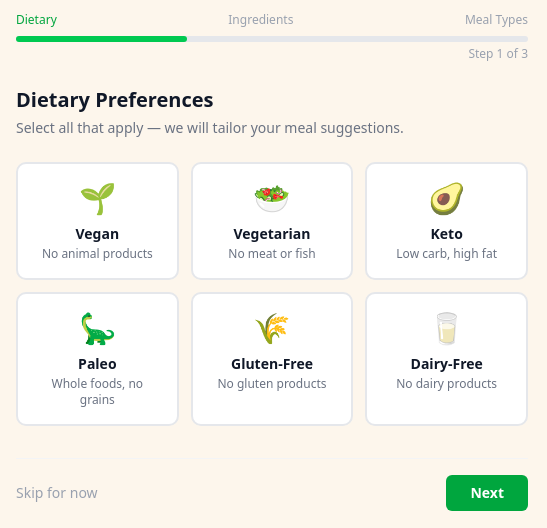
Test: OnboardingWizard › advances to step 2 on Next click
Click the button "Next" at (487, 493), box [446,475,528,511]
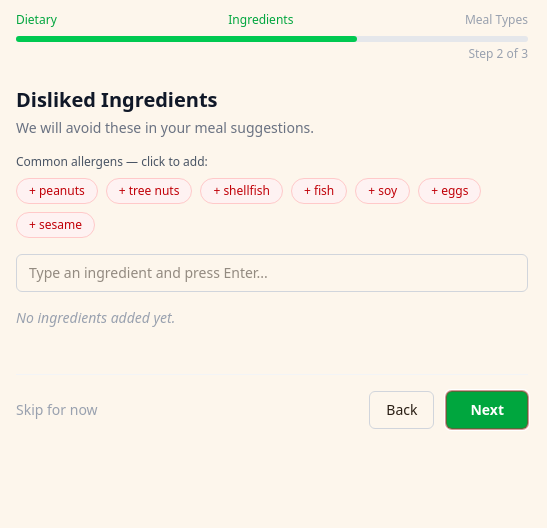
Expected: the heading "Disliked Ingredients" is shown, [16,86,218,113]
